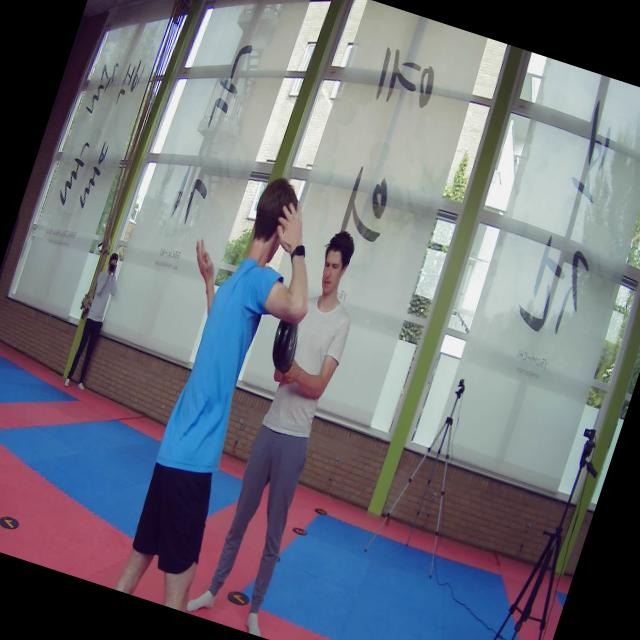paddle: (272, 319, 299, 372)
